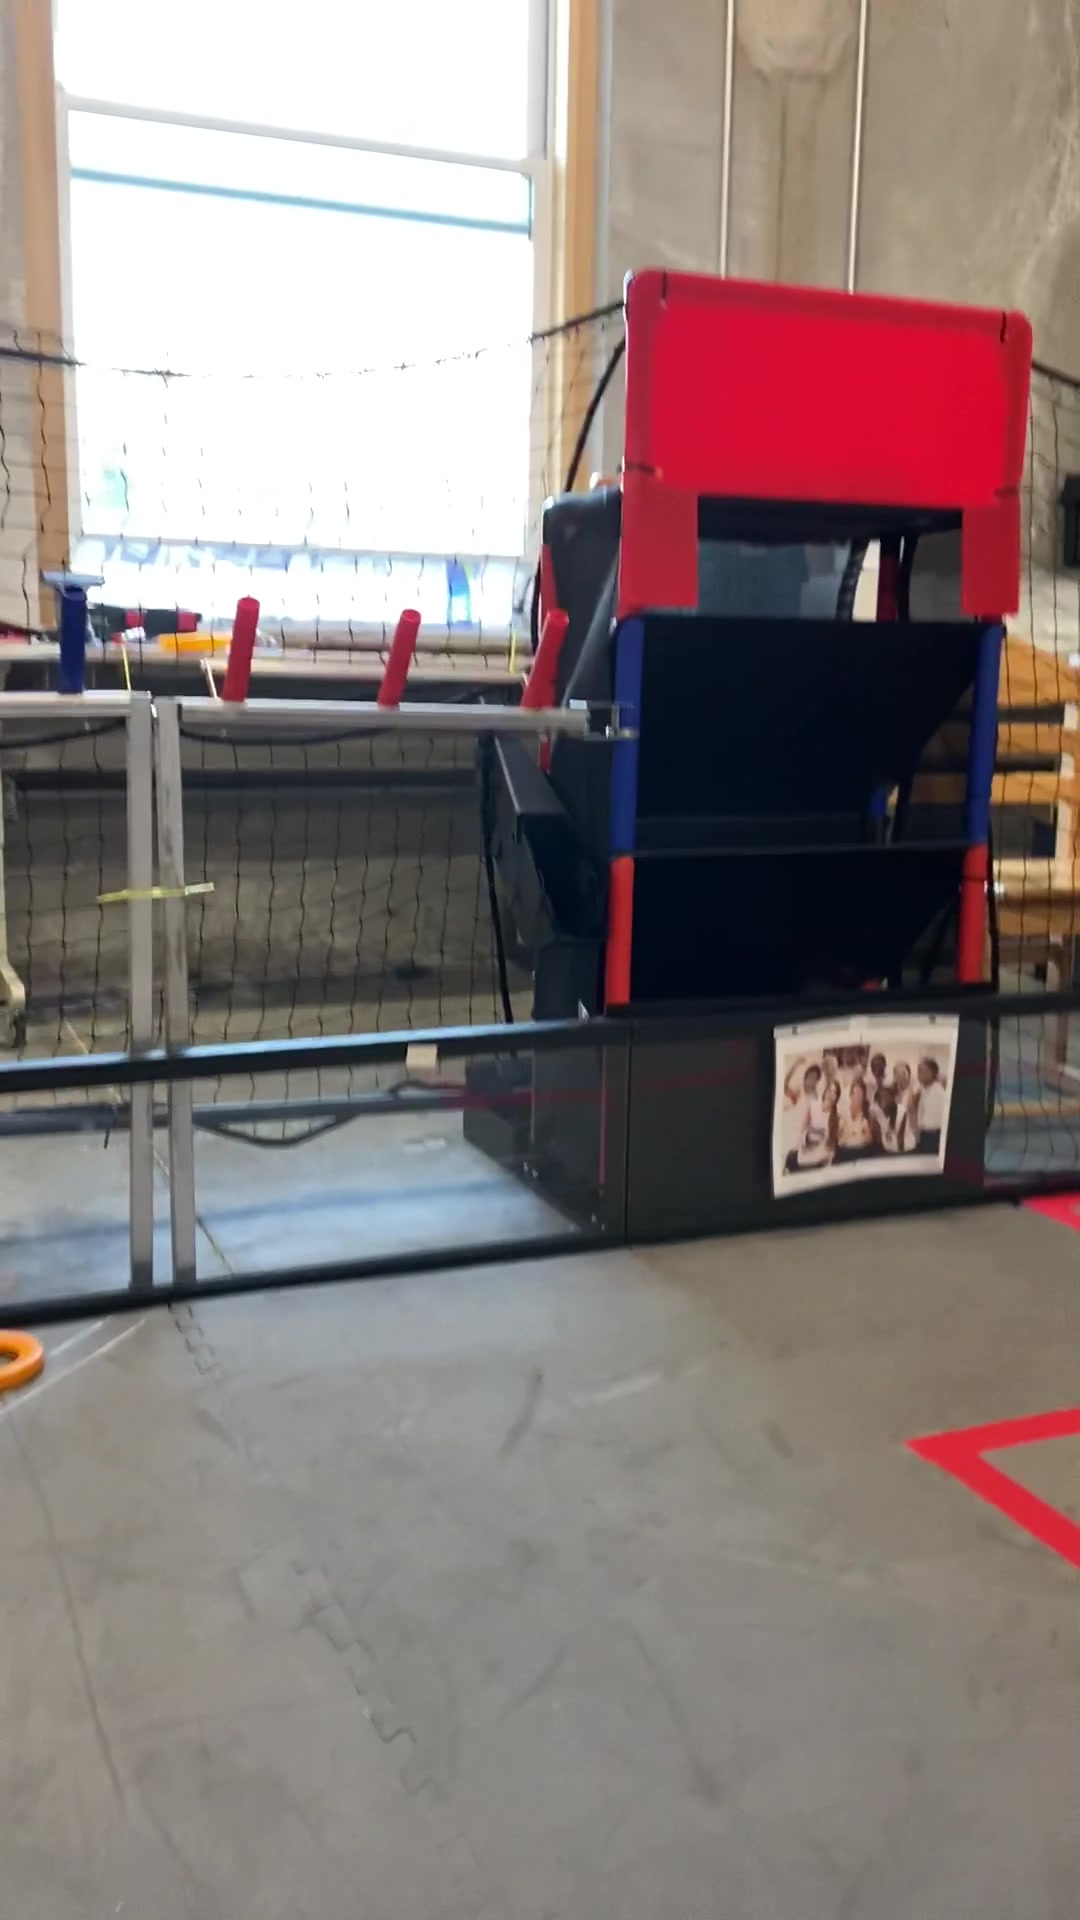high_goal: (699, 496, 965, 616)
